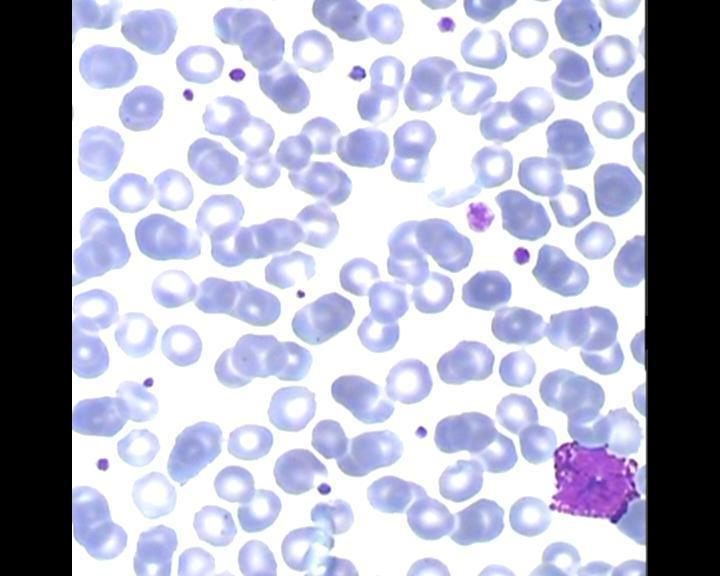baso: (542, 435, 642, 530)
